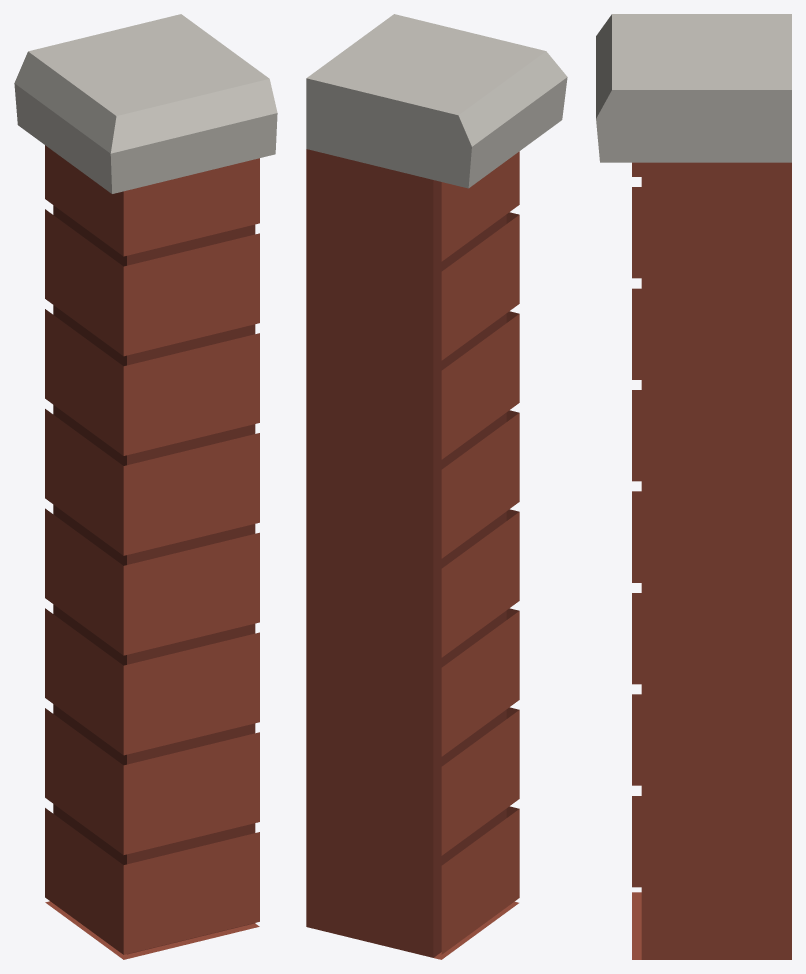
File: SC_Bld_Villa_Roof_Parapet_Corner.gltf
3 renders of one model, left to right at view 1: azimuth 30°, elevation 25°; view 2: azimuth 150°, elevation 25°; view 3: azimuth 270°, elevation 25°, orthographic. The views are drawn at different scales.
Parts seen in each view (by area): view 1: SC_Bld_Villa_Roof_Parapet_Corner; view 2: SC_Bld_Villa_Roof_Parapet_Corner; view 3: SC_Bld_Villa_Roof_Parapet_Corner.
Part boxes in pixels (x1=…): SC_Bld_Villa_Roof_Parapet_Corner: x1=14, y1=14, x2=277, y2=959; SC_Bld_Villa_Roof_Parapet_Corner: x1=306, y1=14, x2=567, y2=959; SC_Bld_Villa_Roof_Parapet_Corner: x1=596, y1=14, x2=791, y2=959.
Bounding box in the file's own units: 0.245 × 1.2 × 0.245.
1 material, 1 textured.
